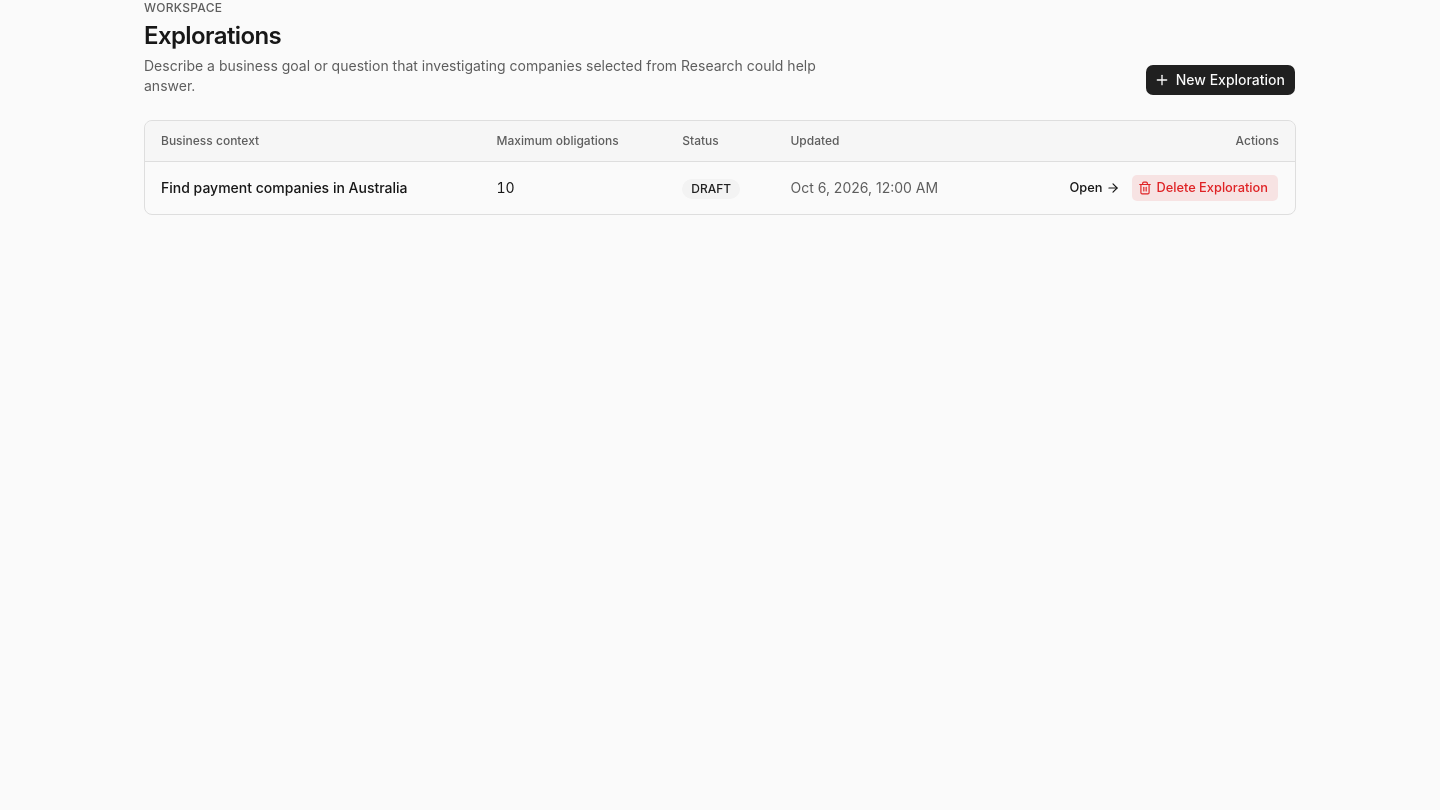
Scenario: ExplorationsPage › keeps the row and shows a safe error for other delete failures
Click the button "Delete Exploration" at (1205, 188), box [1132,174,1279,202]
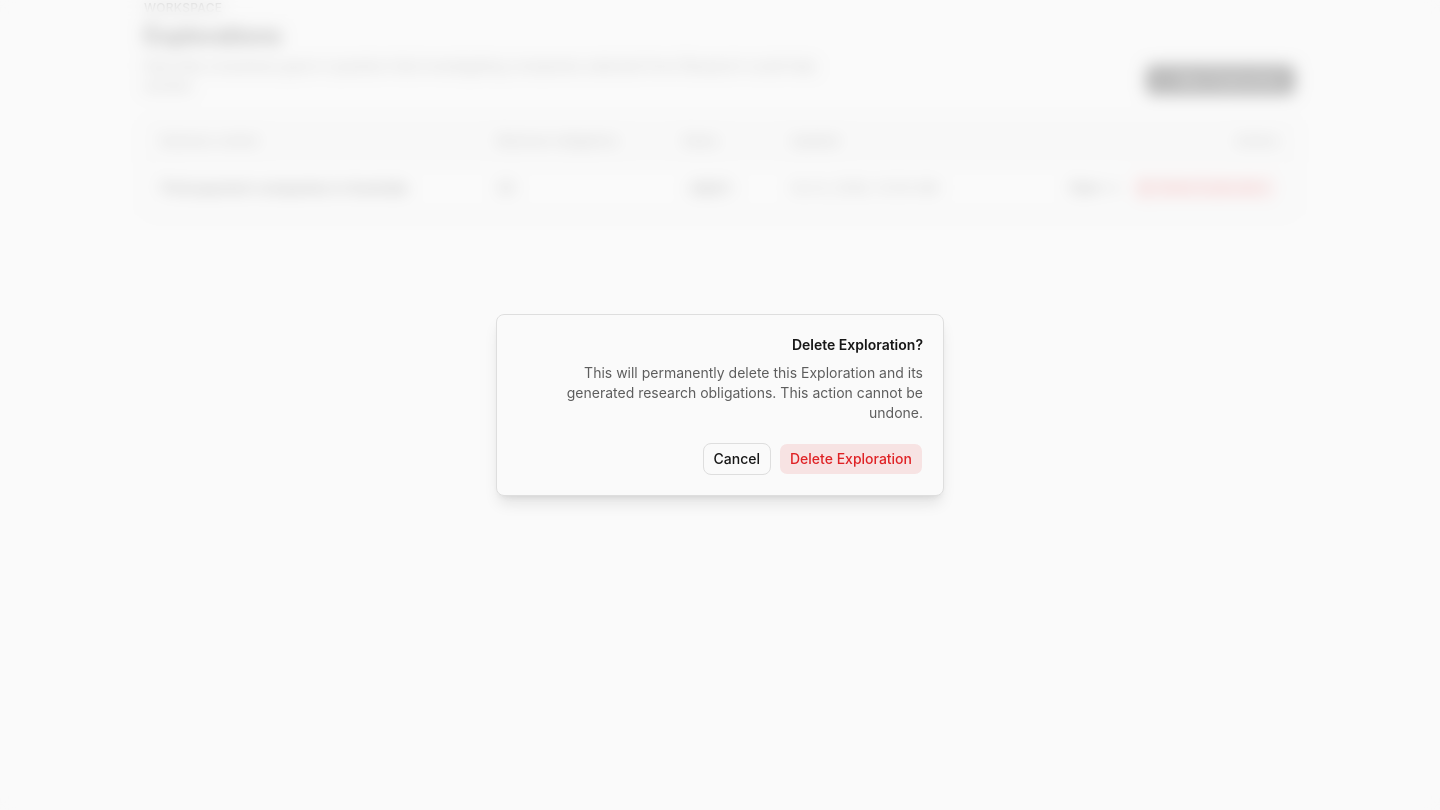
Click the button "Delete Exploration" below "Delete Exploration?" at (851, 459), box [779,443,923,475]
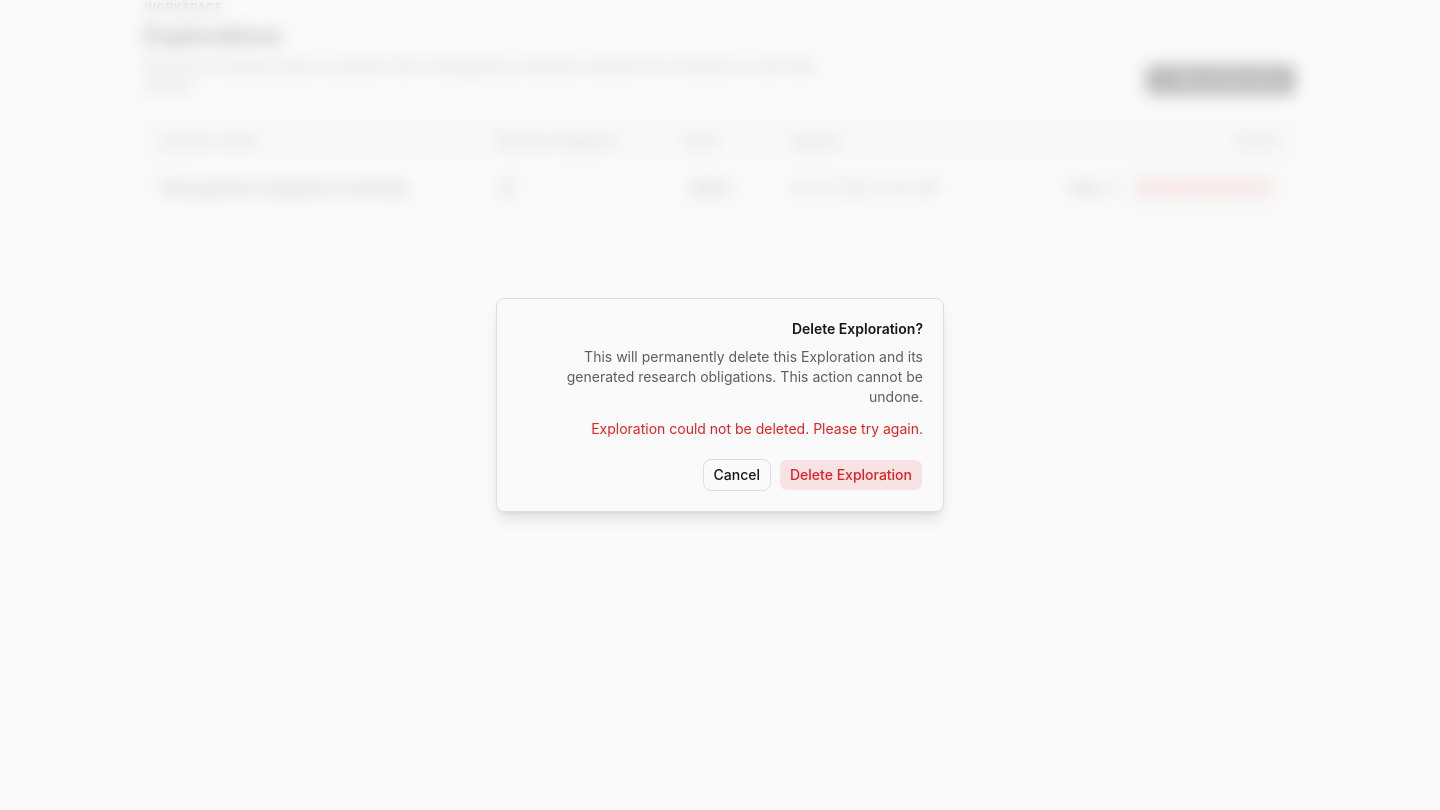
Expected: the message reads "Exploration could not be deleted. Please try again.", [591,420,923,437]
